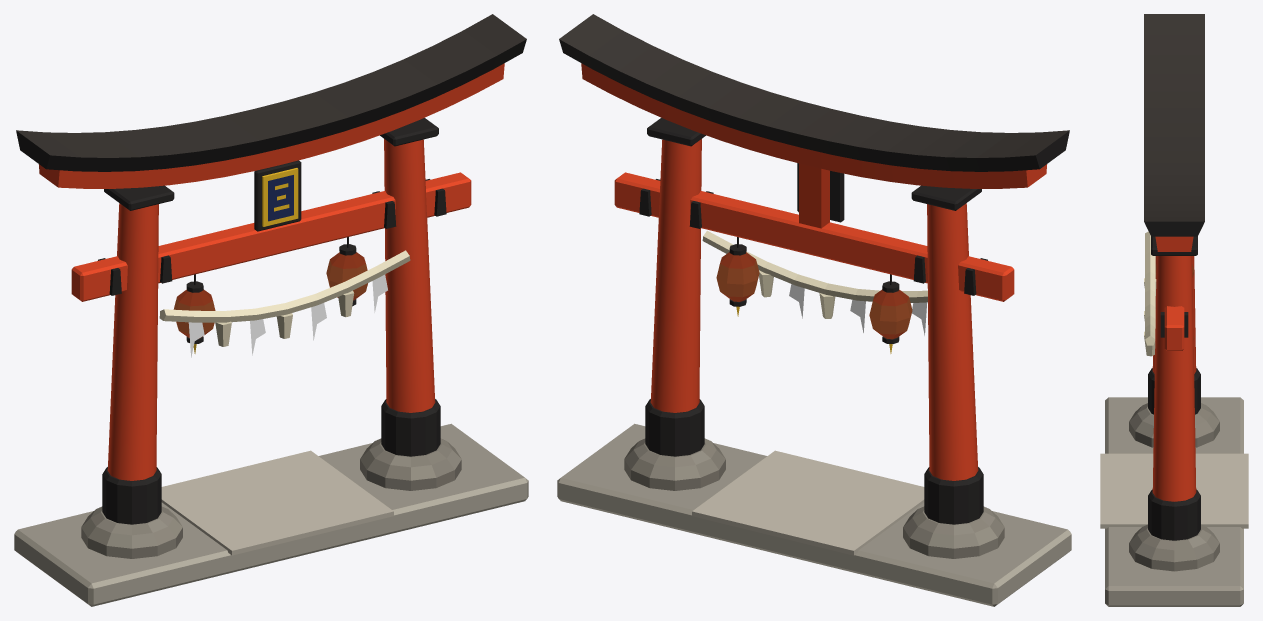
Rendered from torii.glb.
3 renders of one model, left to right at view 1: azimuth 30°, elevation 25°; view 2: azimuth 150°, elevation 25°; view 3: azimuth 270°, elevation 25°, orthographic. The views are drawn at different scales.
Parts seen in each view (by area): view 1: torii; view 2: torii; view 3: torii.
Part boxes in pixels (box(x1,y1,x2,y2)): torii: box(14, 14, 528, 606); torii: box(557, 14, 1071, 606); torii: box(1100, 14, 1248, 606).
Size of the model in its own units: 10.6 by 9.4 by 3.2.
Materials: 2 (2 with a texture image).
